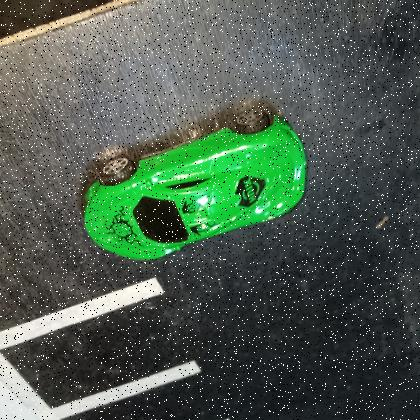Car: (82, 112, 308, 260)
